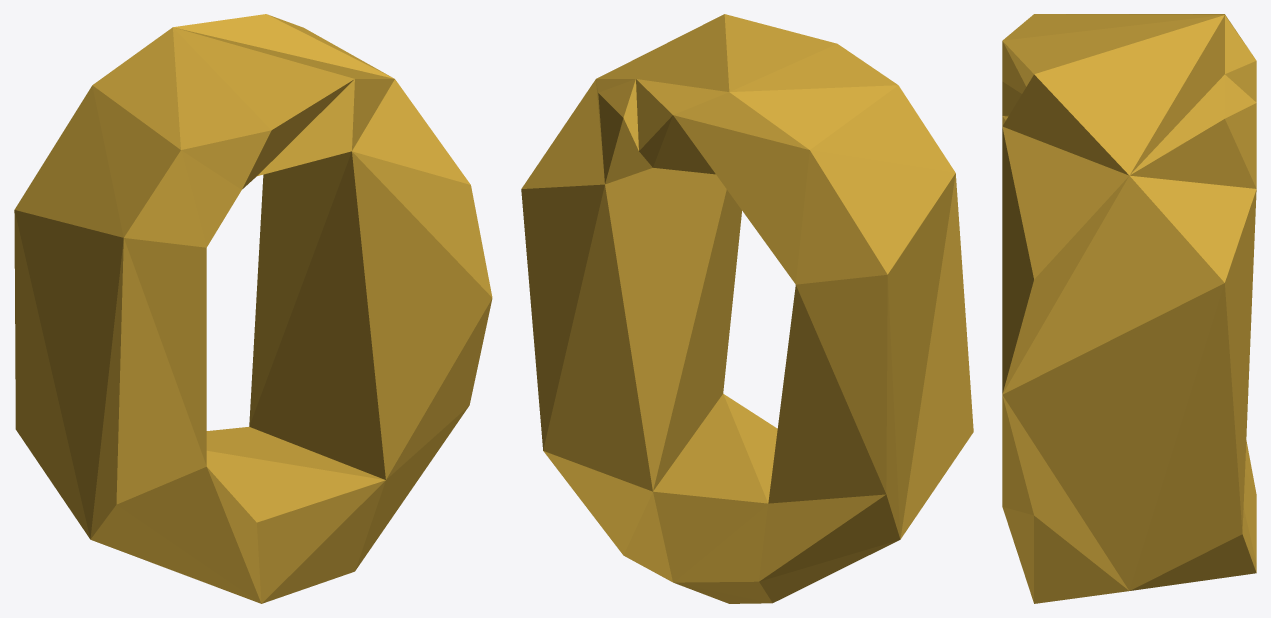
3 views of the same model, side by side, from view 1: azimuth 30°, elevation 25°; view 2: azimuth 150°, elevation 25°; view 3: azimuth 270°, elevation 25° (orthographic). The views are drawn at different scales.
Visible parts, largest first — view 1: 0_0057D0_0; view 2: 0_0057D0_0; view 3: 0_0057D0_0.
Part boxes in pixels (<box>): 0_0057D0_0: <box>14,14,492,603</box>; 0_0057D0_0: <box>521,14,973,603</box>; 0_0057D0_0: <box>1002,14,1256,603</box>.
Bounding box in the file's own units: 54.86 × 71.64 × 30.
